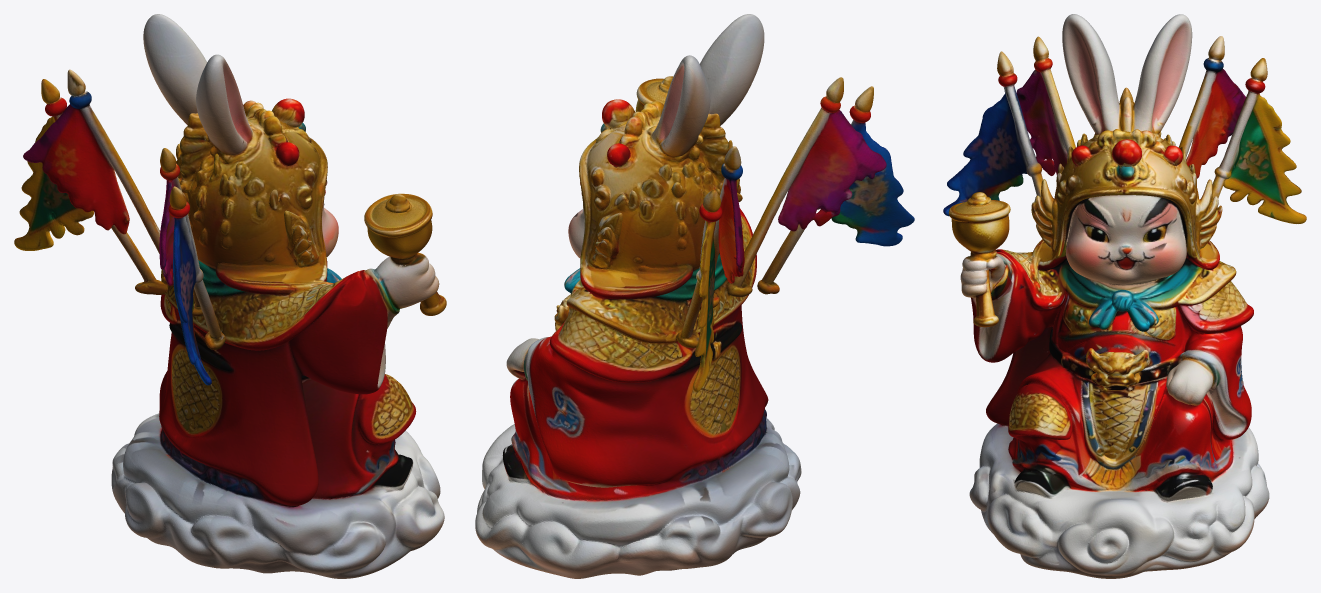
Rendered from rabbit.glb.
The picture shows the model from 3 angles, left to right: view 1: azimuth 30°, elevation 25°; view 2: azimuth 150°, elevation 25°; view 3: azimuth 270°, elevation 25°; orthographic projection. The views are drawn at different scales.
Parts seen in each view (by area): view 1: tripo_node_ce865f64-11d6-4a0a-85b3-544c4f1da6cb; view 2: tripo_node_ce865f64-11d6-4a0a-85b3-544c4f1da6cb; view 3: tripo_node_ce865f64-11d6-4a0a-85b3-544c4f1da6cb.
Boxes of the visible parts, x1,y1,x2,y2 form: tripo_node_ce865f64-11d6-4a0a-85b3-544c4f1da6cb: [14, 14, 446, 578]; tripo_node_ce865f64-11d6-4a0a-85b3-544c4f1da6cb: [475, 14, 914, 578]; tripo_node_ce865f64-11d6-4a0a-85b3-544c4f1da6cb: [943, 14, 1306, 578].
Bounding box in the file's own units: 0.6533 × 1 × 0.6991.
1 material, 1 textured.
